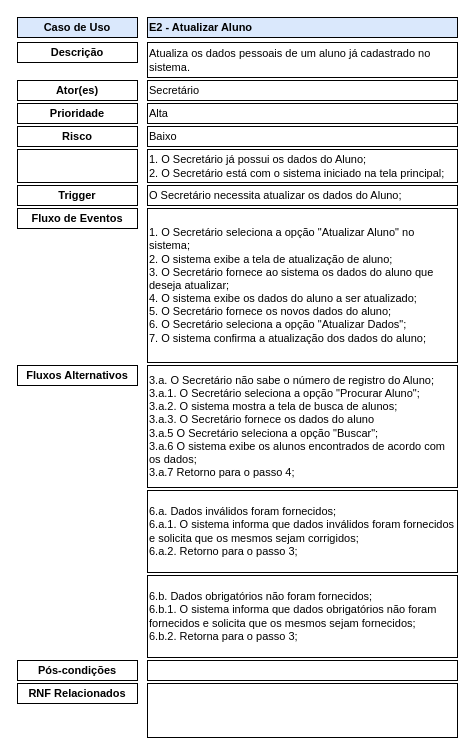
Image size: 475x755. Some labels were removed from this diagram. The shapes that lost their labels are listed below. From the top down, each one's centre as x and y in pixels, then its label:
At (77,165): "Pré-condições / Suposições".
At (302,710): "E1-1. Usabilidade E1-2. Confiabilidade".
